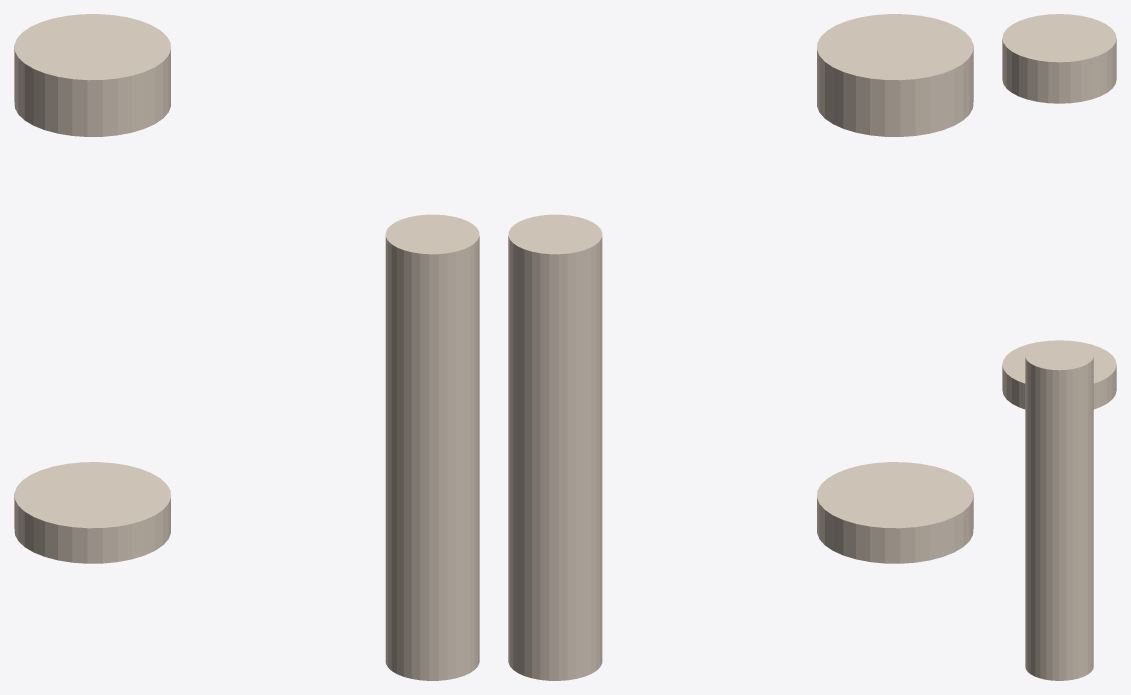
File: ornate_temple_column.glb
3 views of the same model, side by side, from view 1: azimuth 30°, elevation 25°; view 2: azimuth 150°, elevation 25°; view 3: azimuth 270°, elevation 25° (orthographic). The views are drawn at different scales.
Visible parts, largest first — view 1: ornate_temple_column, column_capital, column_base; view 2: ornate_temple_column, column_capital, column_base; view 3: ornate_temple_column, column_capital, column_base.
Part boxes in pixels (x1,y1,x2,y2): ornate_temple_column: (385, 214, 479, 680); column_capital: (14, 14, 170, 136); column_base: (14, 462, 170, 563); ornate_temple_column: (508, 214, 602, 680); column_capital: (817, 14, 973, 136); column_base: (817, 462, 973, 563); ornate_temple_column: (1025, 341, 1093, 680); column_capital: (1002, 14, 1116, 103); column_base: (1002, 340, 1116, 409).
Size of the model in its own units: 6.6 by 9.8 by 2.
